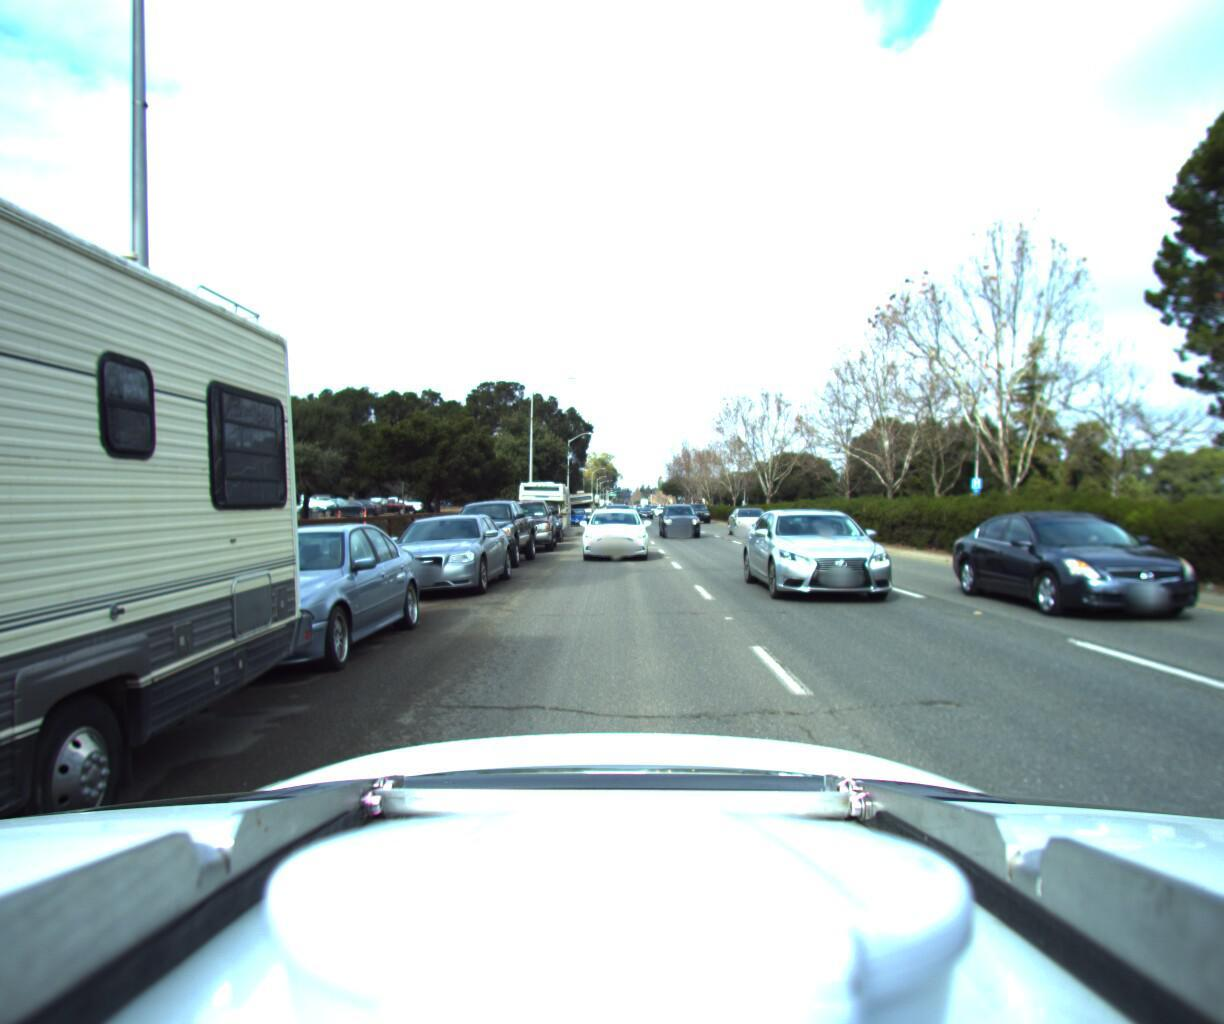car: (109, 513, 436, 702), (970, 502, 1224, 638), (744, 500, 945, 619), (360, 507, 523, 606), (432, 492, 541, 569), (485, 490, 560, 553), (777, 497, 866, 549), (577, 495, 646, 558), (725, 499, 782, 535), (655, 497, 703, 536), (518, 499, 564, 539), (690, 498, 720, 519), (564, 500, 588, 520)
other_vehicle: (508, 473, 574, 534), (563, 483, 597, 517)
